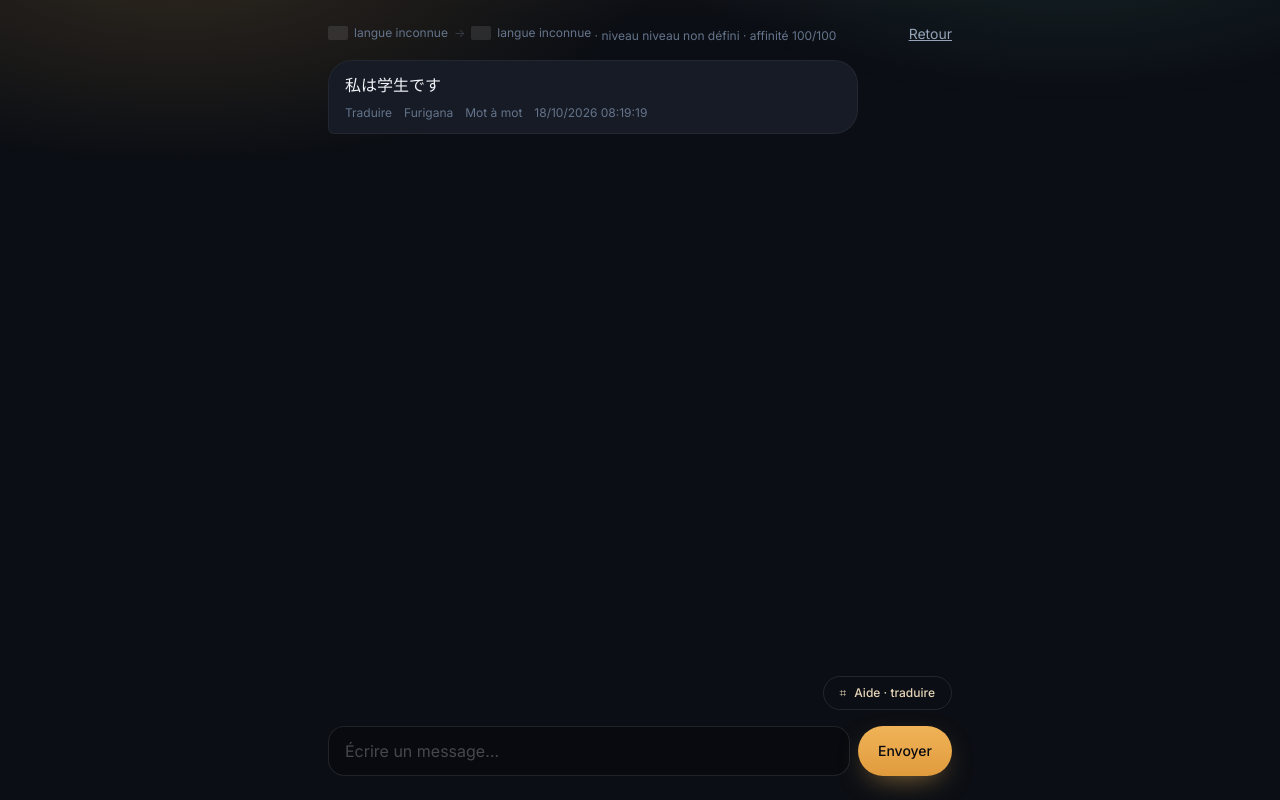
Scenario: Fil de discussion › affiche le furigana en ruby/rt
Click the button "Furigana" at (429, 113), box [404,105,453,121]
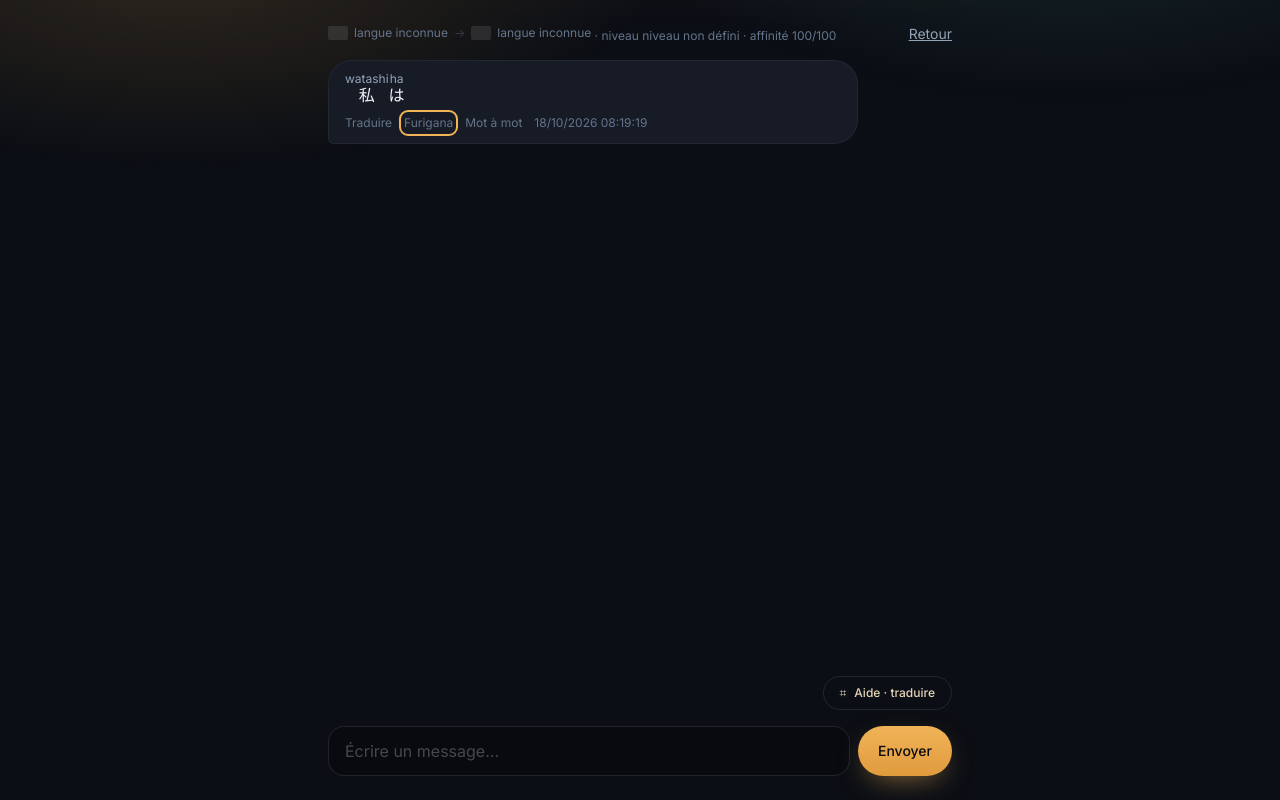
Now the text "watashi" is shown, box [345,71,389,86]
